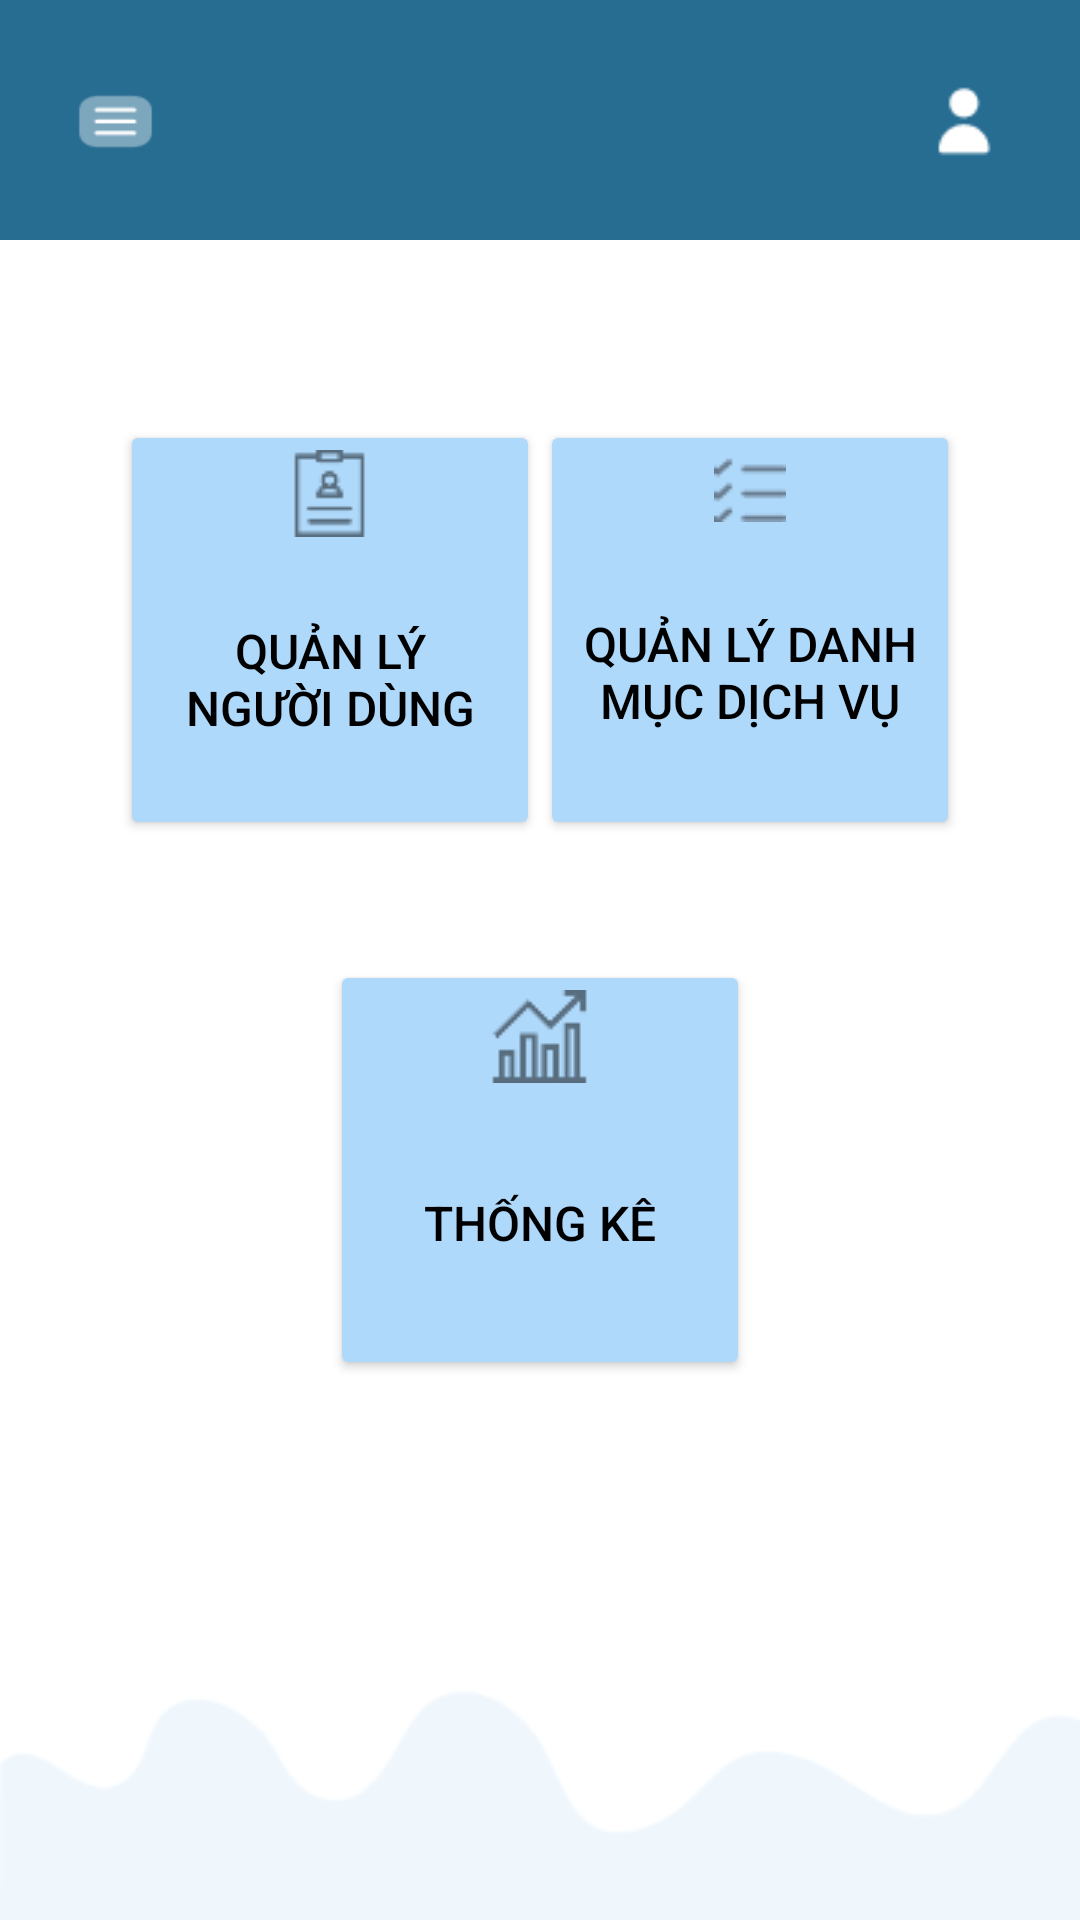

Named icons in this screenshot (1080px x 1920px) and their bounding boxes, (x1=x1, y1=y1, x2=x2, y2=y2):
menu: (x1=79, y1=96, x2=152, y2=147)
user: (x1=938, y1=87, x2=991, y2=155)
